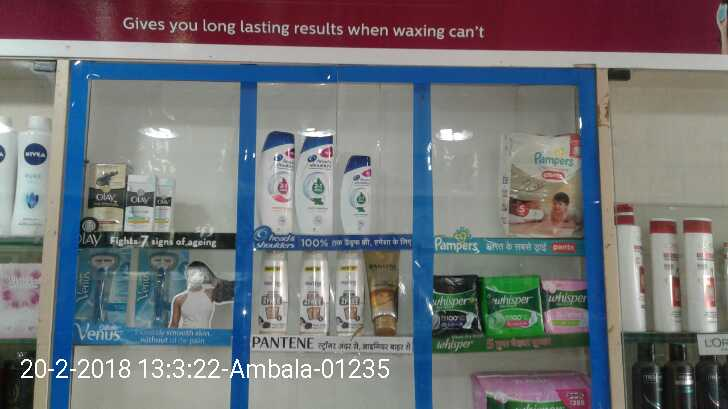venus: (82, 247, 131, 325), (138, 248, 175, 328)
